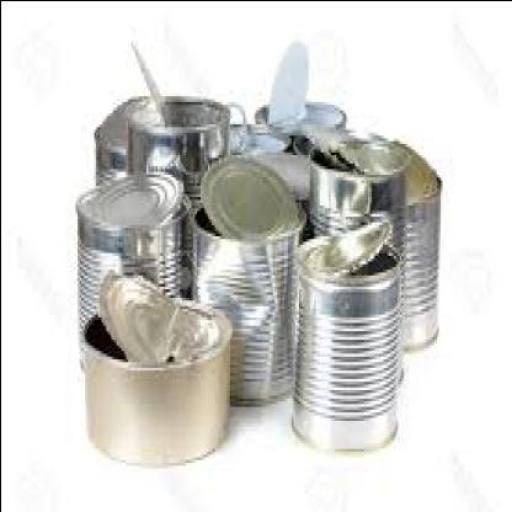metal: (84, 294, 231, 470), (292, 235, 402, 448), (195, 194, 303, 402), (80, 170, 188, 364), (374, 174, 443, 347), (96, 269, 220, 357), (309, 140, 407, 246), (128, 100, 230, 179), (205, 152, 293, 238), (96, 92, 160, 188), (364, 134, 436, 196), (312, 216, 392, 268)
